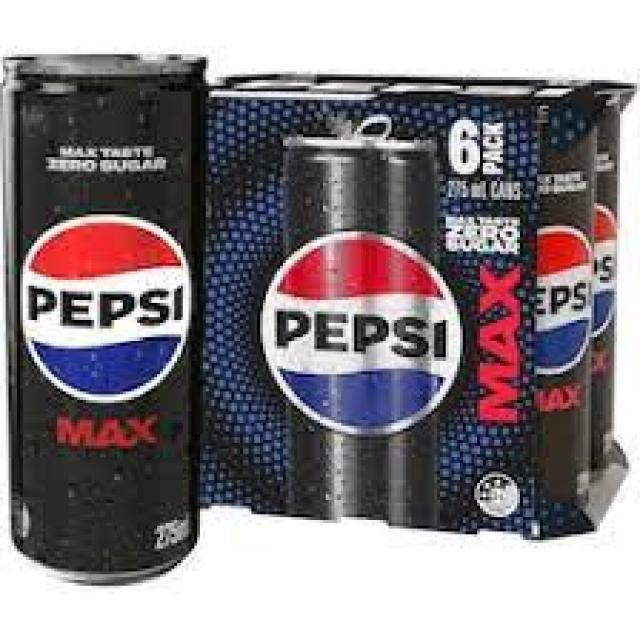Cans: (3, 49, 206, 580)
